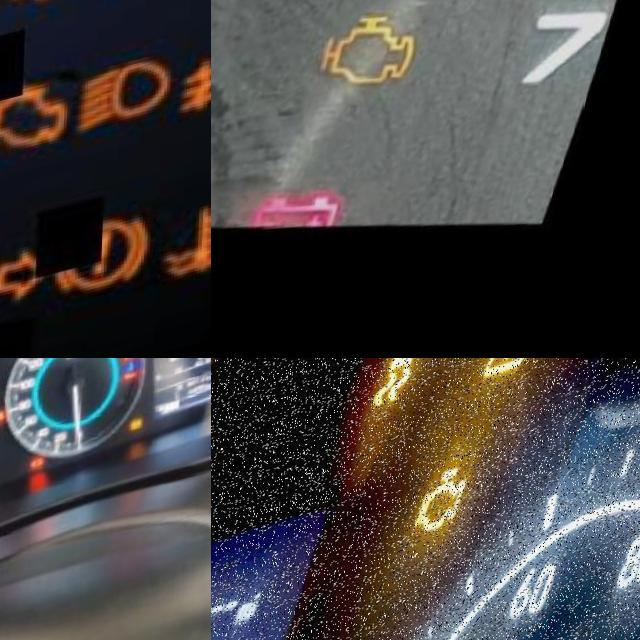Engine cooling system: (125, 376, 138, 391)
